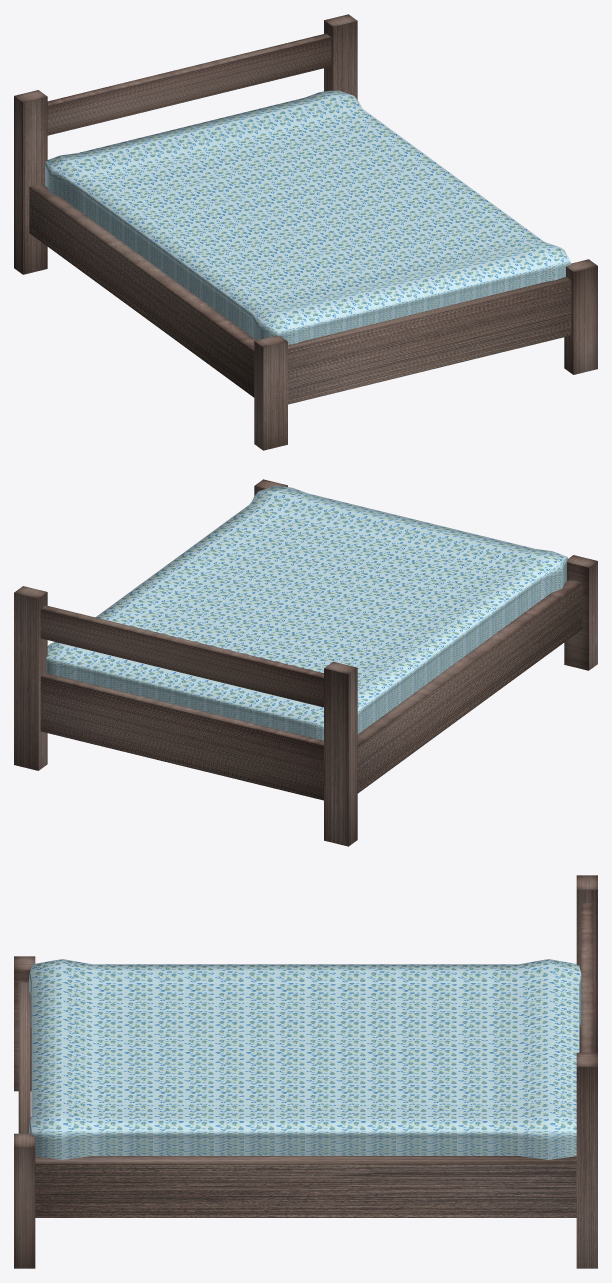
The model's file is cama1.obj.
3 views of the same model, one above another, from view 1: azimuth 30°, elevation 25°; view 2: azimuth 150°, elevation 25°; view 3: azimuth 270°, elevation 25° (orthographic). The views are drawn at different scales.
Parts seen in each view (by area): view 1: Cube.004_Cube.009, Cube.001_Cube.002; view 2: Cube.004_Cube.009, Cube.001_Cube.002; view 3: Cube.004_Cube.009, Cube.001_Cube.002.
Part boxes in pixels (bbox=[...]): Cube.004_Cube.009: bbox=[45, 90, 570, 344]; Cube.001_Cube.002: bbox=[14, 14, 597, 450]; Cube.004_Cube.009: bbox=[46, 485, 567, 740]; Cube.001_Cube.002: bbox=[14, 479, 597, 846]; Cube.004_Cube.009: bbox=[29, 959, 581, 1159]; Cube.001_Cube.002: bbox=[14, 875, 597, 1268].
Size of the model in its own units: 6.82 by 3.36 by 8.8.
4 materials, 4 textured.
